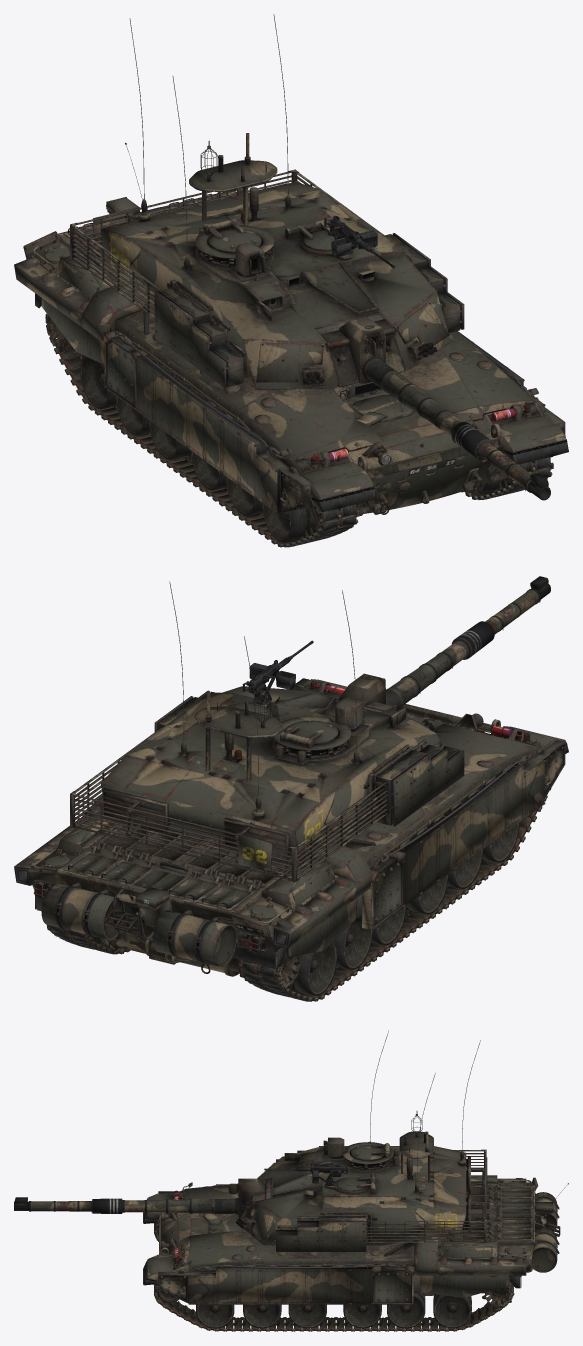
The model's file is tank_challenger.glb.
The picture shows the model from 3 angles, top to bottom: view 1: azimuth 30°, elevation 25°; view 2: azimuth 150°, elevation 25°; view 3: azimuth 270°, elevation 25°; orthographic projection. The views are drawn at different scales.
Visible parts, largest first — view 1: Object_25, Object_5, Object_7, Object_11, Object_13, Object_23; view 2: Object_7, Object_25, Object_11, Object_5, Object_13, Object_23; view 3: Object_7, Object_25, Object_13, Object_5, Object_11, Object_23.
Boxes of the visible parts, x1,y1,x2,y2 form: Object_25: [101, 14, 450, 389]; Object_5: [27, 191, 566, 514]; Object_7: [23, 143, 568, 547]; Object_11: [14, 133, 464, 387]; Object_13: [103, 216, 565, 513]; Object_23: [102, 183, 550, 500]; Object_7: [33, 680, 568, 1001]; Object_25: [101, 581, 442, 860]; Object_11: [14, 687, 464, 948]; Object_5: [27, 679, 566, 976]; Object_13: [242, 640, 565, 930]; Object_23: [102, 576, 550, 863]; Object_7: [143, 1175, 568, 1331]; Object_25: [236, 1030, 480, 1245]; Object_13: [158, 1163, 414, 1304]; Object_5: [146, 1180, 535, 1296]; Object_11: [250, 1111, 526, 1275]; Object_23: [14, 1156, 470, 1243].
Size of the model in its own units: 0.4207 by 0.5336 by 1.12.
8 materials, 8 textured.
